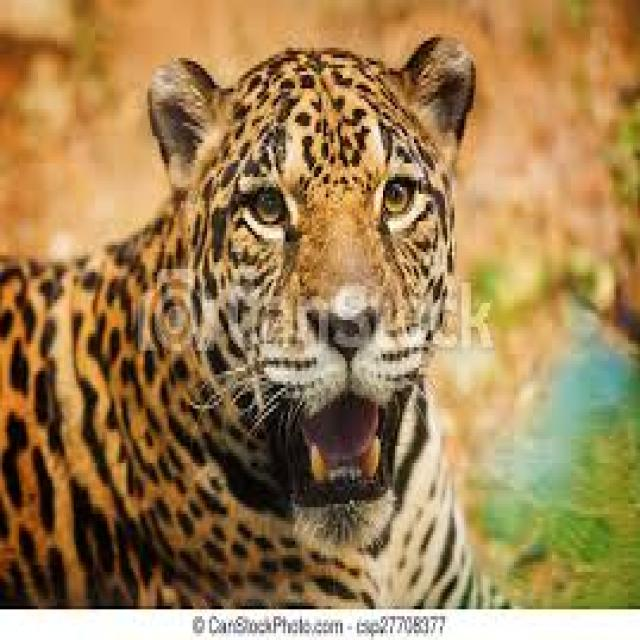Jaguar: (0, 31, 507, 606)
